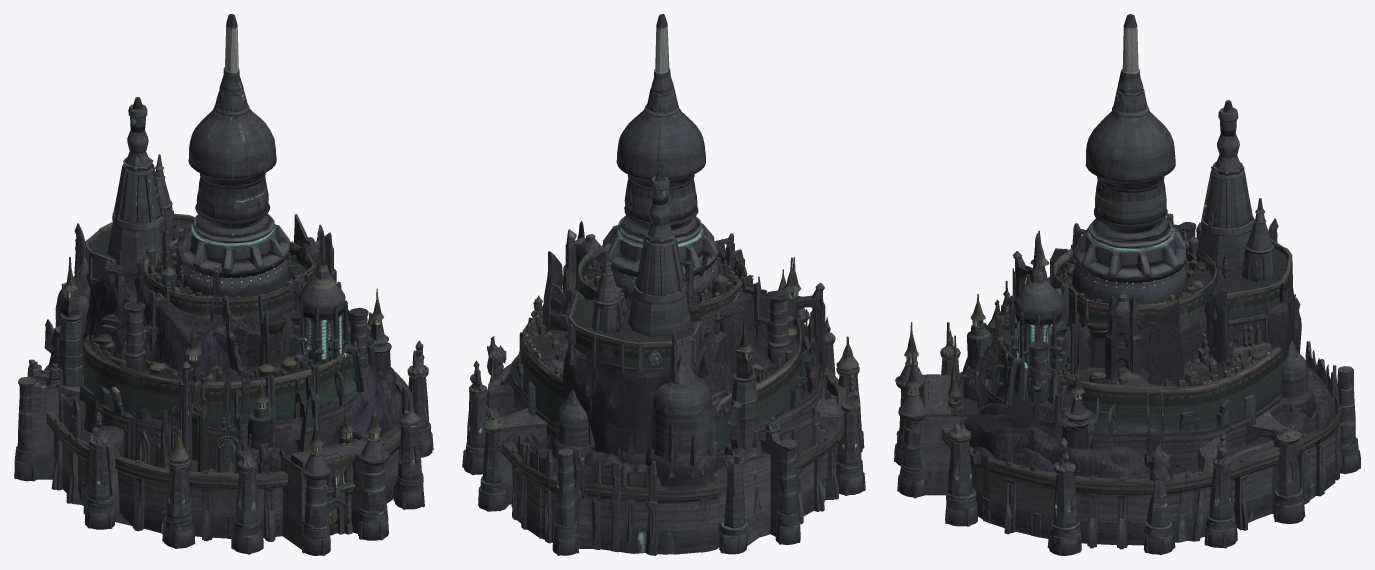
File: mantellpalace.glb
3 renders of one model, left to right at view 1: azimuth 30°, elevation 25°; view 2: azimuth 150°, elevation 25°; view 3: azimuth 270°, elevation 25°, orthographic.
Visible parts, largest first — view 1: mantellpalace-centred; view 2: mantellpalace-centred; view 3: mantellpalace-centred.
Boxes of the visible parts, x1=… form: mantellpalace-centred: x1=14, y1=14, x2=433, y2=555; mantellpalace-centred: x1=462, y1=14, x2=865, y2=555; mantellpalace-centred: x1=894, y1=14, x2=1360, y2=555.
Bounding box in the file's own units: 71.9 × 90 × 83.11.
Materials: 1 (1 with a texture image).
